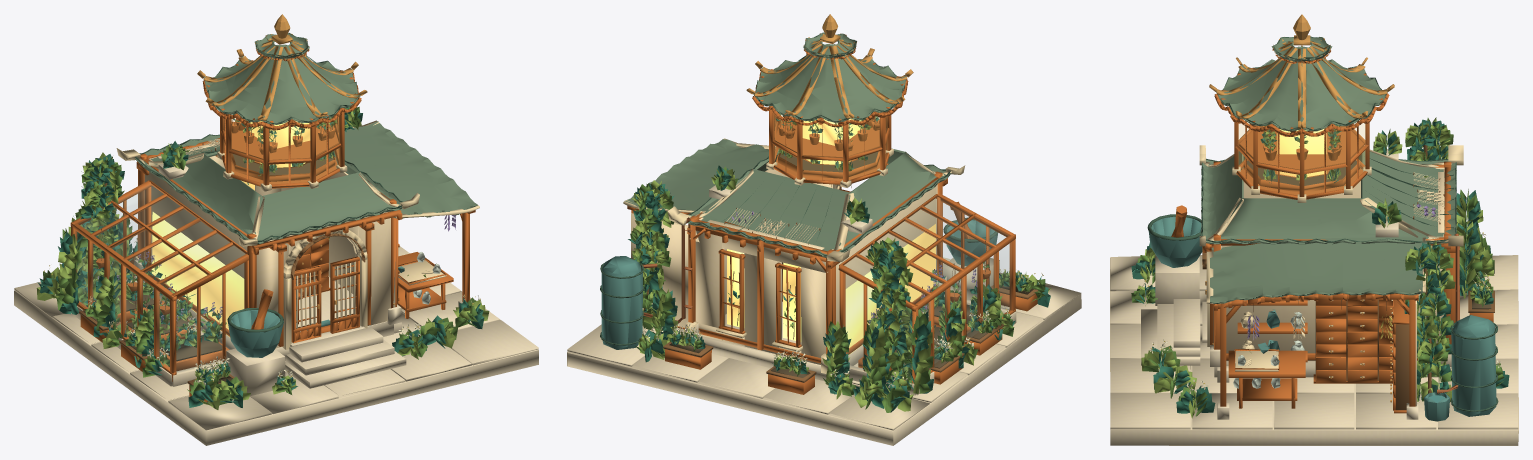
The model's file is herb-lod2-a080883c5f4f.glb.
3 renders of one model, left to right at view 1: azimuth 30°, elevation 25°; view 2: azimuth 150°, elevation 25°; view 3: azimuth 270°, elevation 25°, orthographic. The views are drawn at different scales.
Parts seen in each view (by area): view 1: RFbatch_0.030, RFbatch_6.030, RFbatch_17.030, RFbatch_2.030, RFbatch_56.030, RFbatch_46.030, RFbatch_55.030, RFbatch_83.020, RFbatch_99.017, RFbatch_8.030, RFbatch_81.020, RFbatch_39.030 (+4 smaller); view 2: RFbatch_6.030, RFbatch_17.030, RFbatch_0.030, RFbatch_2.030, RFbatch_46.030, RFbatch_56.030, RFbatch_55.030, RFbatch_99.017, RFbatch_81.020, RFbatch_83.020, RFbatch_22.030, RFbatch_8.030 (+5 smaller); view 3: RFbatch_0.030, RFbatch_17.030, RFbatch_6.030, RFbatch_81.020, RFbatch_56.030, RFbatch_55.030, RFbatch_46.030, RFbatch_83.020, RFbatch_2.030, RFbatch_8.030, RFbatch_18.030, RFbatch_29.030 (+4 smaller).
Boxes of the visible parts, bbox=[...] form: RFbatch_0.030: bbox=[14, 163, 538, 445]; RFbatch_6.030: bbox=[70, 48, 475, 402]; RFbatch_17.030: bbox=[135, 33, 477, 243]; RFbatch_2.030: bbox=[144, 142, 395, 348]; RFbatch_56.030: bbox=[37, 107, 484, 407]; RFbatch_46.030: bbox=[43, 106, 477, 405]; RFbatch_55.030: bbox=[36, 108, 489, 409]; RFbatch_83.020: bbox=[116, 120, 479, 349]; RFbatch_99.017: bbox=[152, 120, 310, 337]; RFbatch_8.030: bbox=[144, 14, 395, 308]; RFbatch_81.020: bbox=[227, 266, 404, 357]; RFbatch_39.030: bbox=[83, 154, 333, 384]; RFbatch_6.030: bbox=[627, 46, 1037, 394]; RFbatch_17.030: bbox=[625, 32, 951, 257]; RFbatch_0.030: bbox=[567, 185, 1081, 445]; RFbatch_2.030: bbox=[631, 169, 937, 364]; RFbatch_46.030: bbox=[630, 114, 1045, 412]; RFbatch_56.030: bbox=[628, 116, 1050, 412]; RFbatch_55.030: bbox=[632, 112, 1050, 411]; RFbatch_99.017: bbox=[727, 118, 935, 355]; RFbatch_81.020: bbox=[601, 220, 997, 349]; RFbatch_83.020: bbox=[623, 138, 965, 373]; RFbatch_22.030: bbox=[941, 202, 1009, 309]; RFbatch_8.030: bbox=[746, 14, 913, 118]; RFbatch_0.030: bbox=[1110, 149, 1518, 445]; RFbatch_17.030: bbox=[1201, 37, 1456, 303]; RFbatch_6.030: bbox=[1171, 49, 1493, 413]; RFbatch_81.020: bbox=[1148, 216, 1496, 421]; RFbatch_56.030: bbox=[1131, 119, 1509, 413]; RFbatch_55.030: bbox=[1138, 117, 1494, 418]; RFbatch_46.030: bbox=[1131, 118, 1504, 416]; RFbatch_83.020: bbox=[1199, 145, 1463, 393]; RFbatch_2.030: bbox=[1213, 167, 1444, 406]; RFbatch_8.030: bbox=[1205, 14, 1394, 402]; RFbatch_18.030: bbox=[1147, 36, 1498, 411]; RFbatch_29.030: bbox=[1202, 124, 1494, 410].
Bounding box in the file's own units: 9.97 × 9.33 × 9.99.
Materials: 22 (12 with a texture image).
